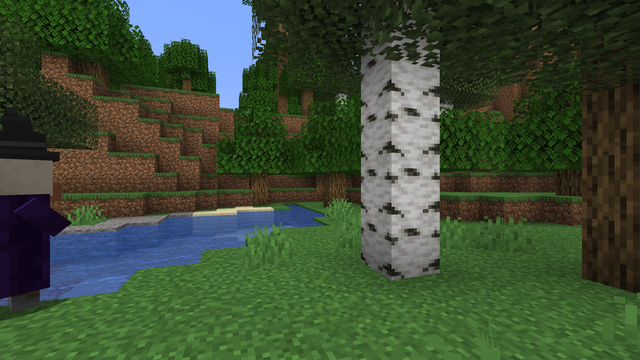sorcieres: (1, 152, 65, 314)
